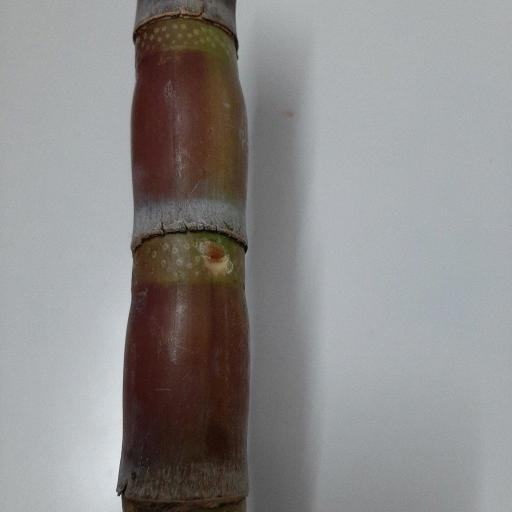Damage_Bud: (196, 235, 234, 276)
